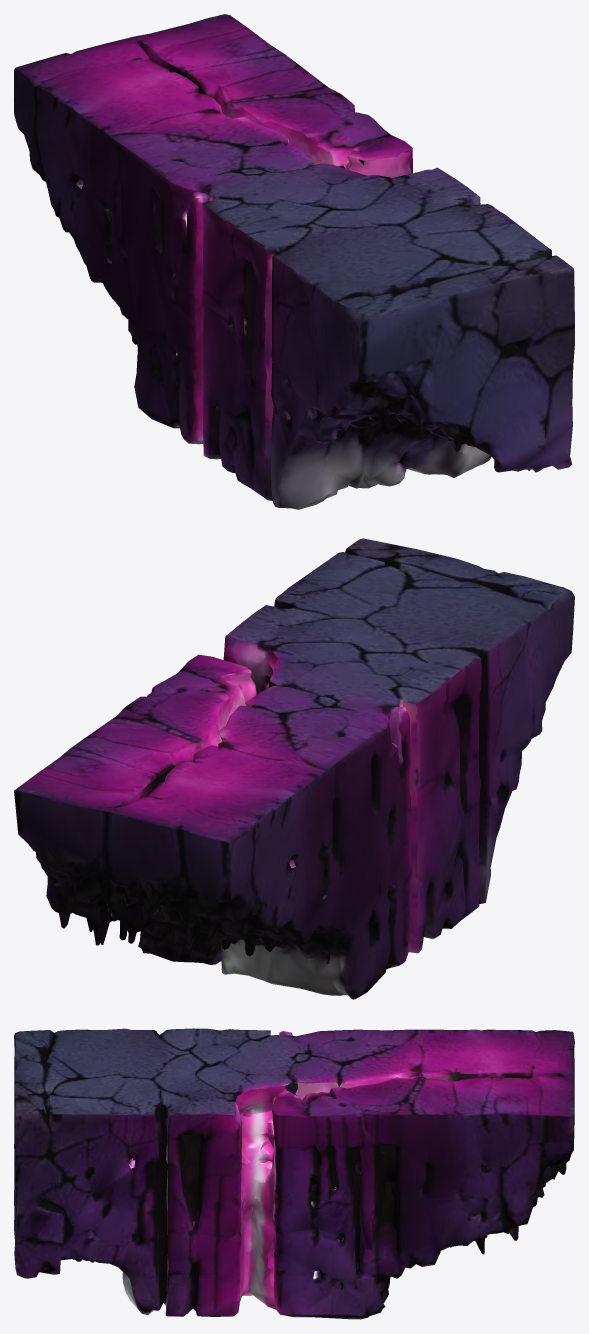
Rendered from shelf-break-5-generated-2026-05-17T20-47-17-100Z.low.glb.
3 views of the same model, one above another, from view 1: azimuth 30°, elevation 25°; view 2: azimuth 150°, elevation 25°; view 3: azimuth 270°, elevation 25° (orthographic). The views are drawn at different scales.
Parts seen in each view (by area): view 1: temp_mesh.ply; view 2: temp_mesh.ply; view 3: temp_mesh.ply.
Part boxes in pixels (box(x1,y1,x2,y2)): temp_mesh.ply: box(14, 14, 574, 509); temp_mesh.ply: box(14, 538, 574, 999); temp_mesh.ply: box(14, 1028, 574, 1319).
Size of the model in its own units: 0.7287 by 0.8159 by 1.97.
1 material, 1 textured.
